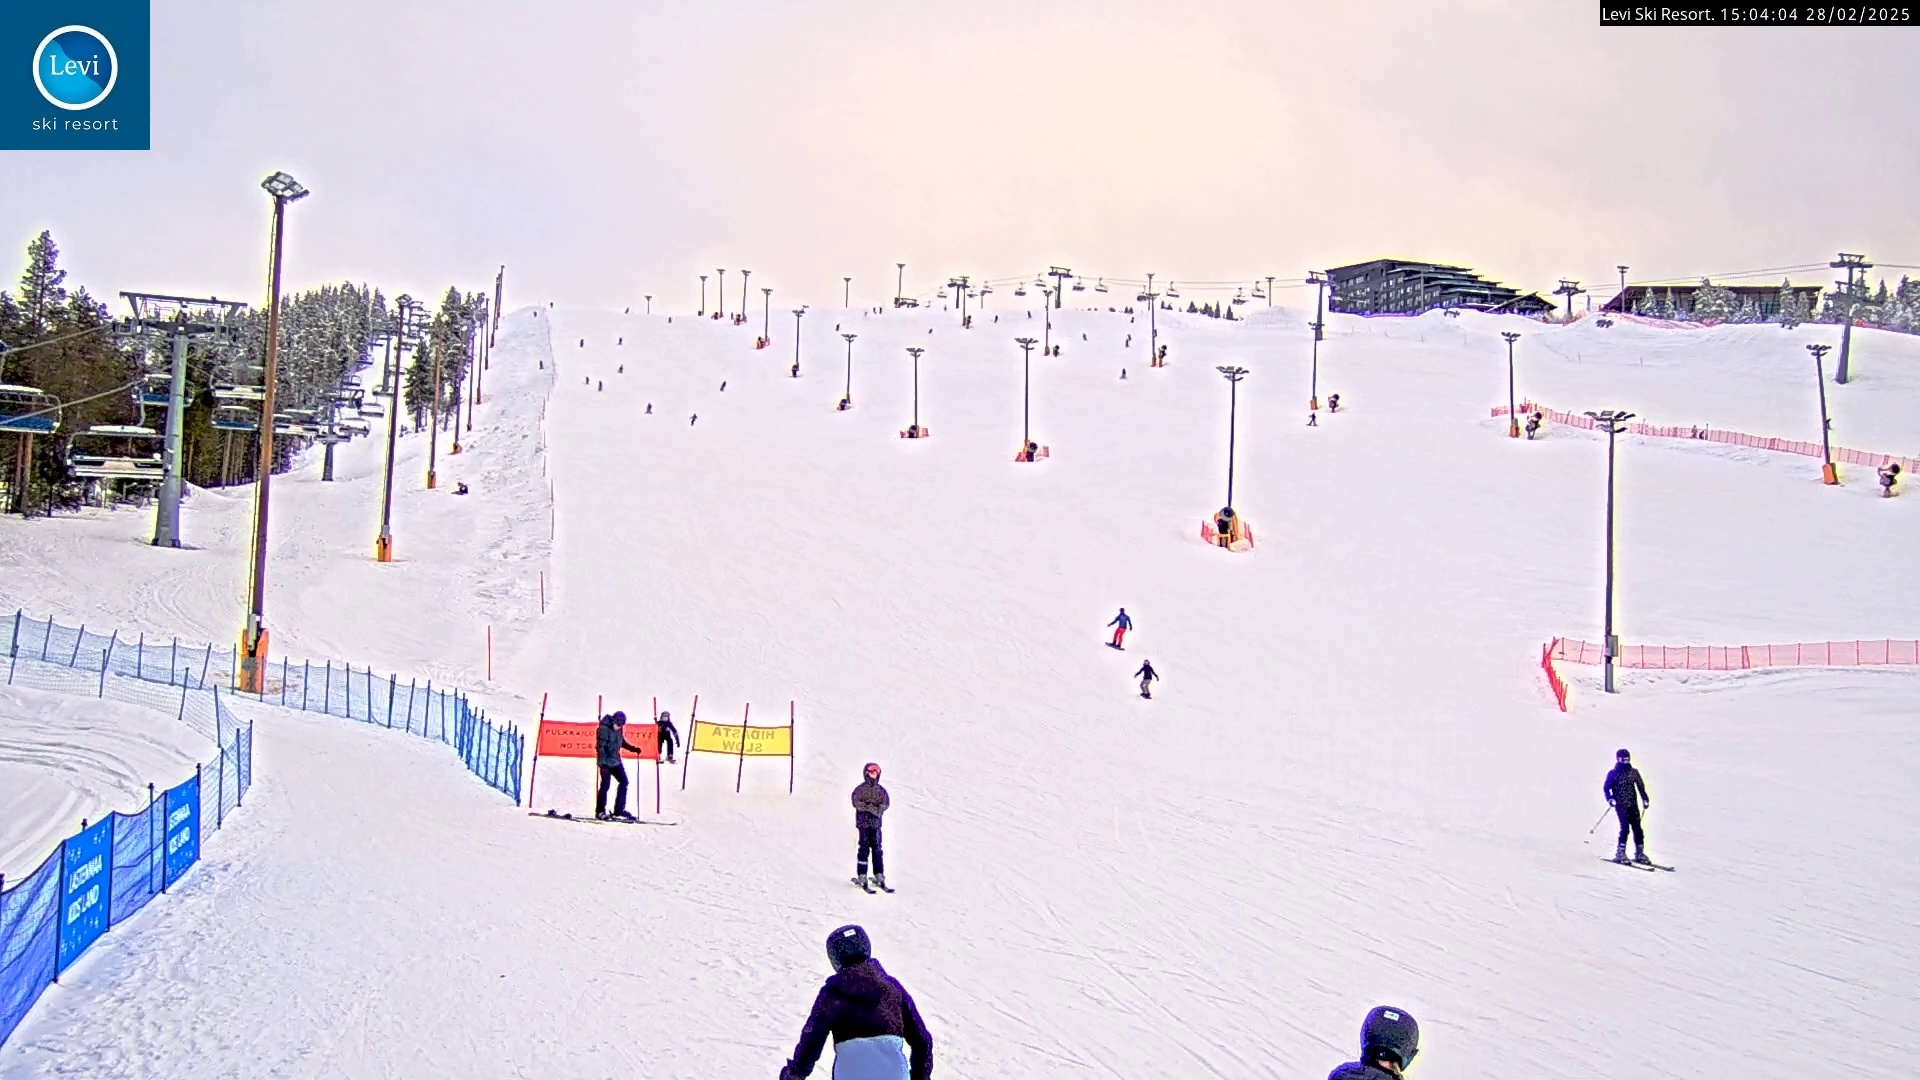skier: (1588, 744, 1677, 874), (847, 764, 897, 893)
snowboarder: (1104, 604, 1133, 650), (1135, 659, 1159, 698)
